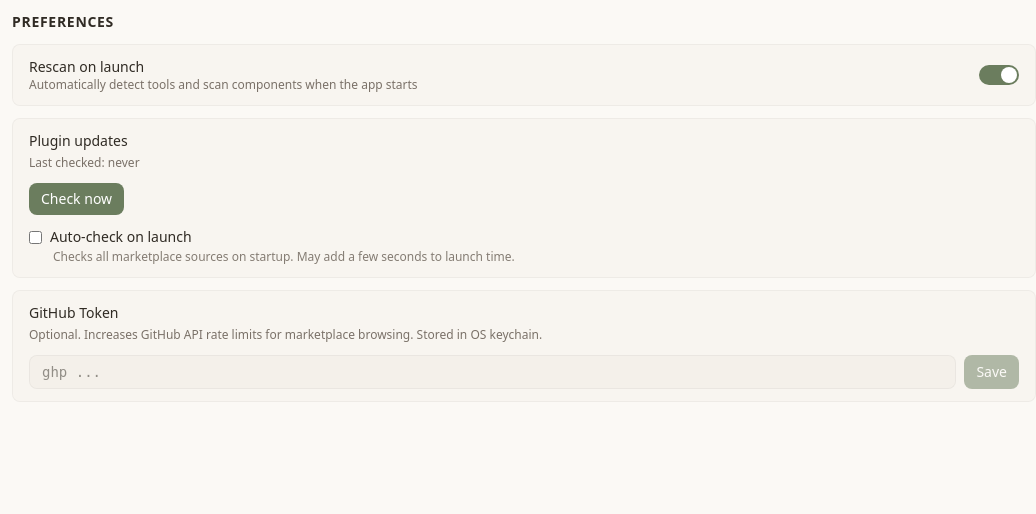
Test: PreferencesSection › shows error when toggle fails
Click the switch named "Rescan on launch". click: point(999, 75)
box: 979,65 -> 1019,85
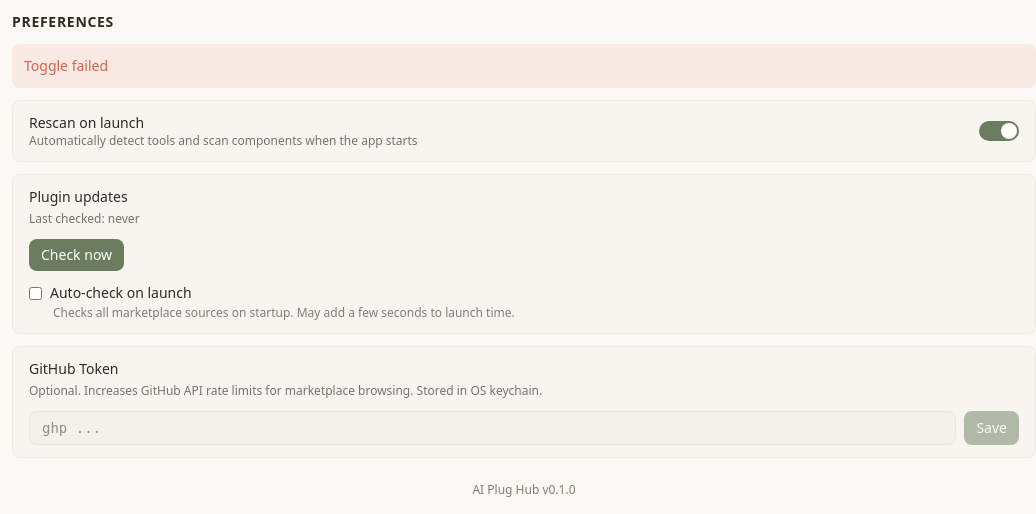
Check: the text "Toggle failed" is shown, box 12,44 -> 1035,88
